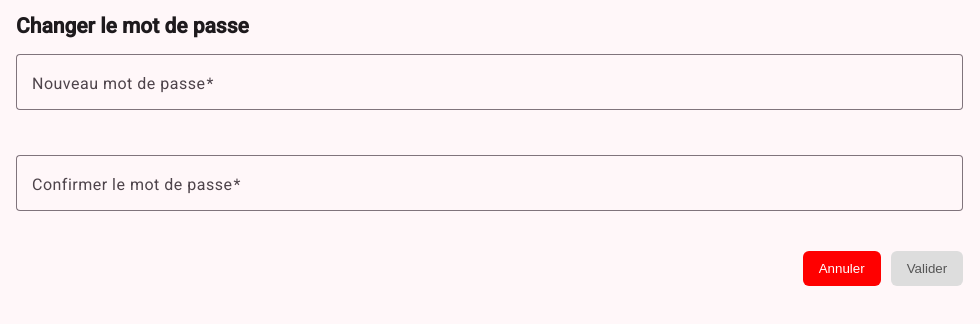
Test: ChangePasswordModalComponent › la confirmartion du mot de passe doit correspondre
Type "Password99@" into the password field labelled "Nouveau mot de passe".
click(490, 82); type("Password99@")  # box left=32, top=70, right=947, bottom=94
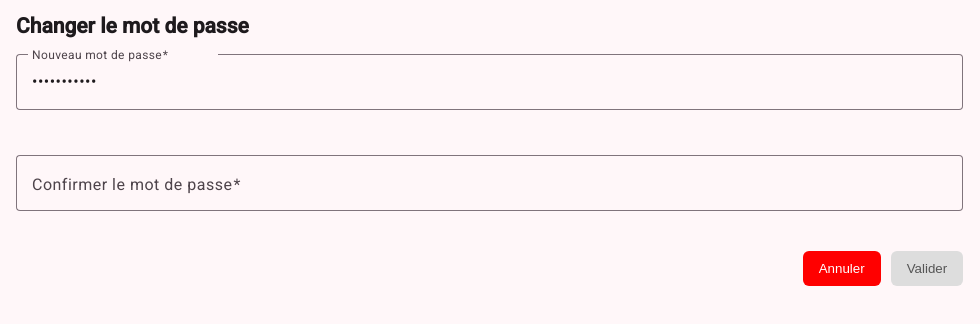
Type "Password88@" into the password field labelled "Confirmer le mot de passe".
click(490, 183); type("Password88@")  # box left=32, top=171, right=947, bottom=195
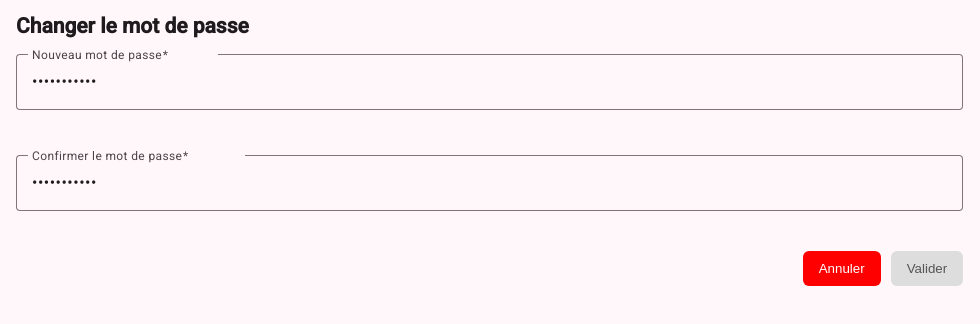
Leave the password field labelled "Confirmer le mot de passe", box left=32, top=171, right=947, bottom=195
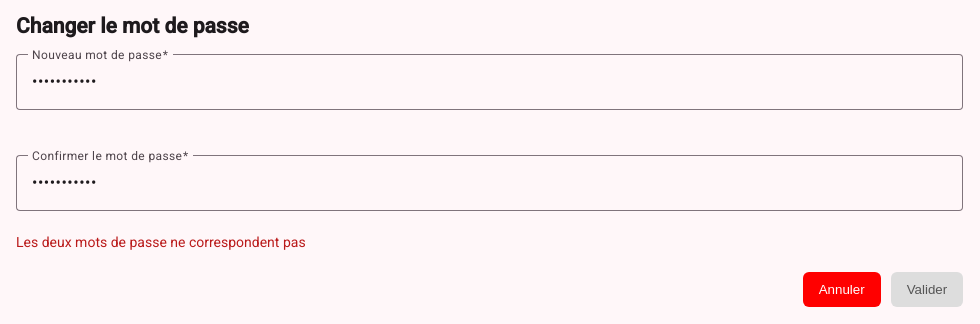
Expected: the text "Les deux mots de passe ne correspondent pas" is shown, left=16, top=234, right=306, bottom=250
